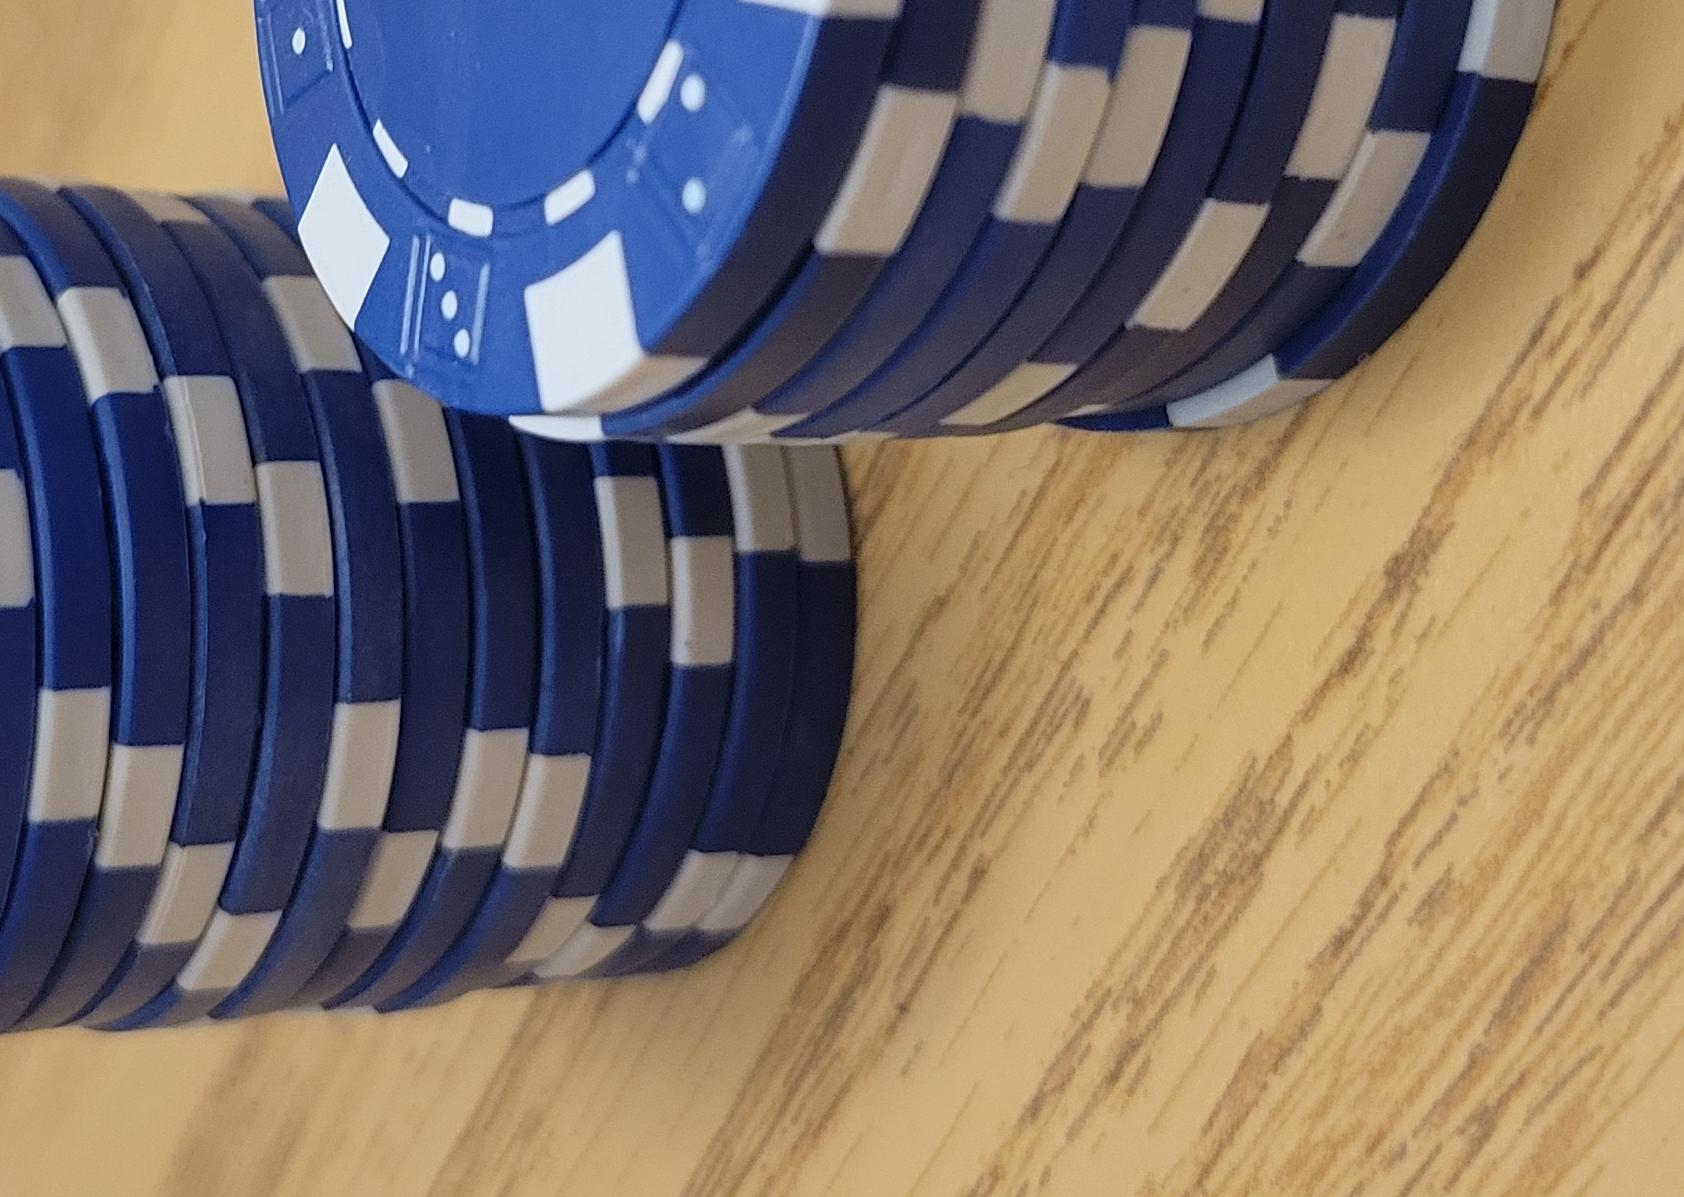Chip: (1, 424, 852, 1197)
